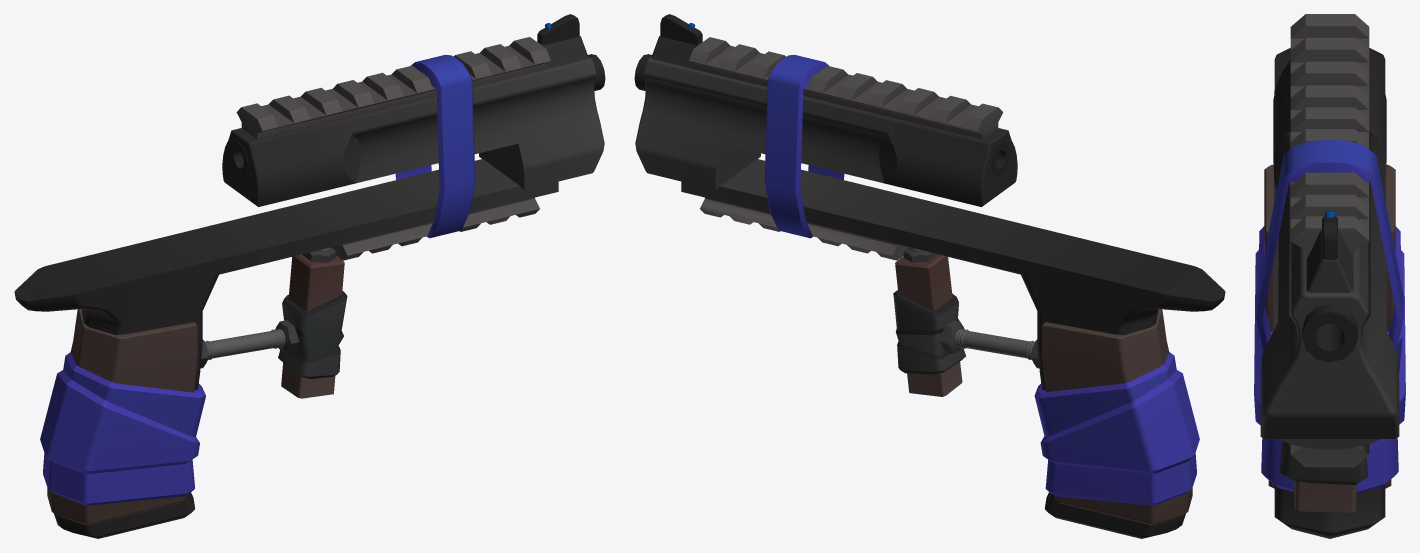
Rendered from Pistol1_Base.fbx.
The picture shows the model from 3 angles, left to right: view 1: azimuth 30°, elevation 25°; view 2: azimuth 150°, elevation 25°; view 3: azimuth 270°, elevation 25°; orthographic projection. The views are drawn at different scales.
Parts seen in each view (by area): view 1: Pistol1_Base; view 2: Pistol1_Base; view 3: Pistol1_Base.
Part boxes in pixels (<box>): Pistol1_Base: <box>14,14,605,538</box>; Pistol1_Base: <box>634,14,1225,538</box>; Pistol1_Base: <box>1254,14,1405,538</box>.
Size of the model in its own units: 33.57 by 5.02 by 21.96.
